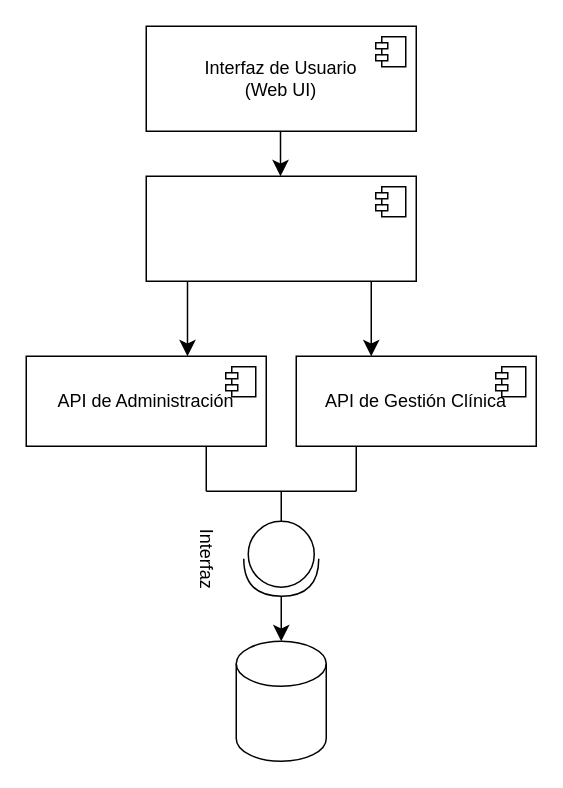
Some shapes in this 563 by 788 pixel diagram are drawn without their labels. The shapes that lost their labels are listed below. From the top down, each one's box as (x1, y1, x2, y2) in pixels, then its label:
(145, 175, 416, 281): Gestor de seguridad (Auth)
(235, 640, 326, 761): Base de Datos Clínica
